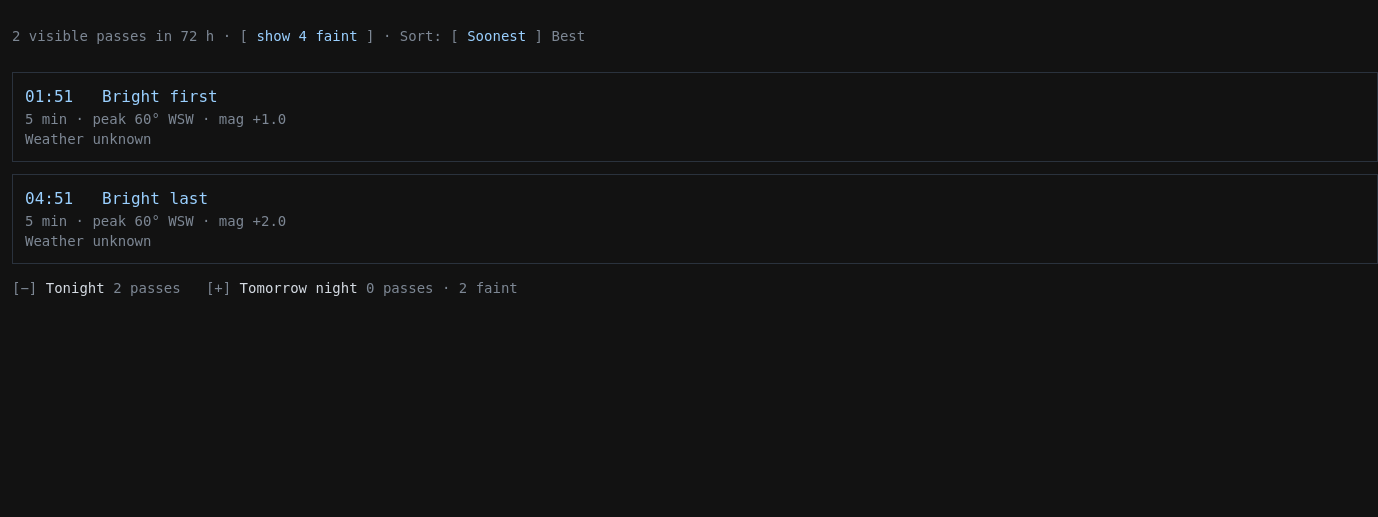
Test: <PassList> faint passes (FR-FAINT-2) › shows them in place, dimmed and tagged, and hides them again; the choice is stored (US-34 AC2, AC3)
Click the button with test id "faint-toggle" at (307,36), box [240,14,374,58]
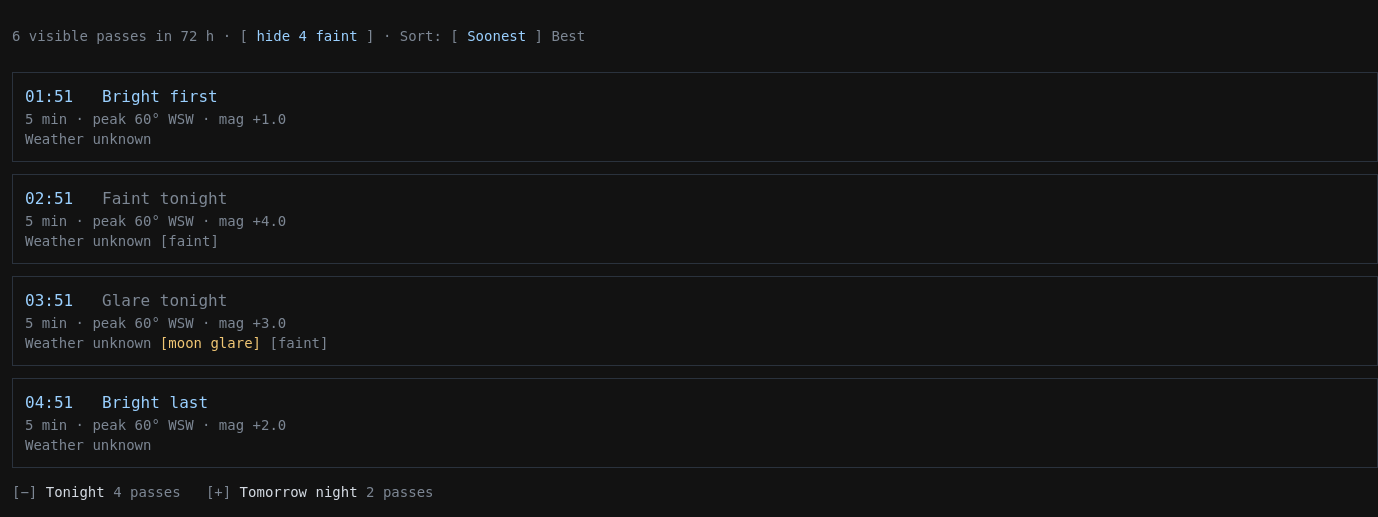
Expected: the message reads "6 visible passes in 72 h", [12,28,214,44]
Expected: the button with test id "faint-toggle" reads "hide 4 faint"
Expected: the text with test id "card-faint" below "5 min · peak 60° WSW · mag +4.0" reads "faint", [168,233,210,249]
Click the button with test id "faint-toggle" at (307,36), box [240,14,374,58]
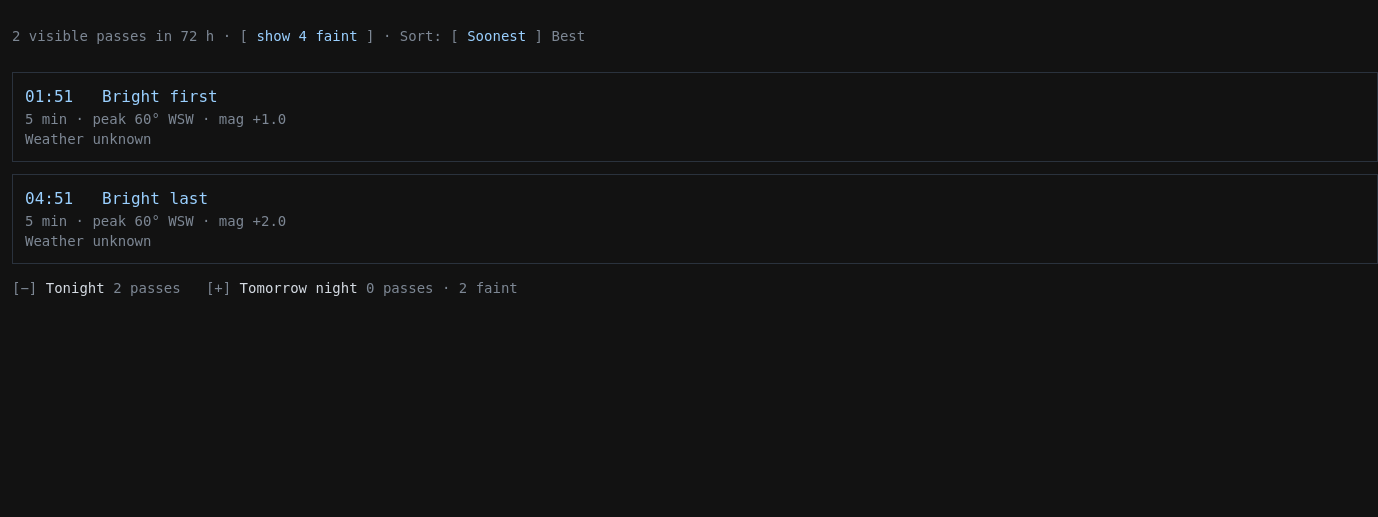
Expected: the button with test id "faint-toggle" reads "show 4 faint", [240,14,374,58]
